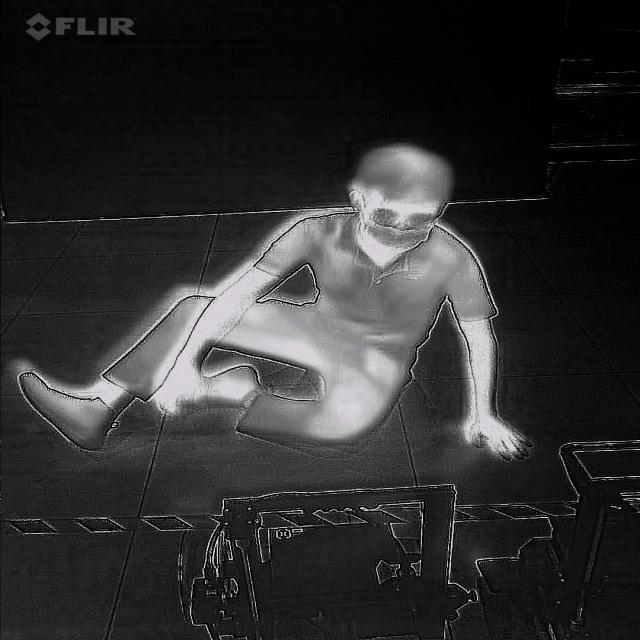Victim: (19, 138, 536, 475)
